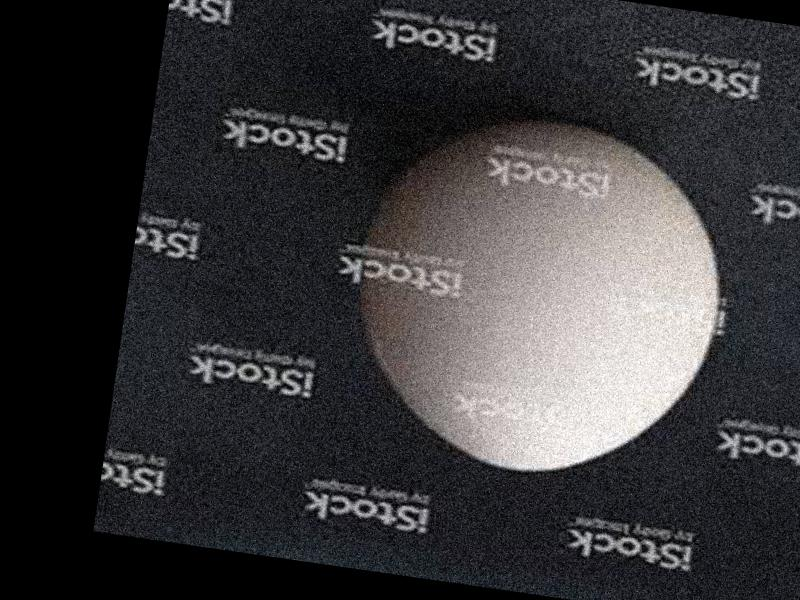Eggs: (335, 95, 740, 495)
